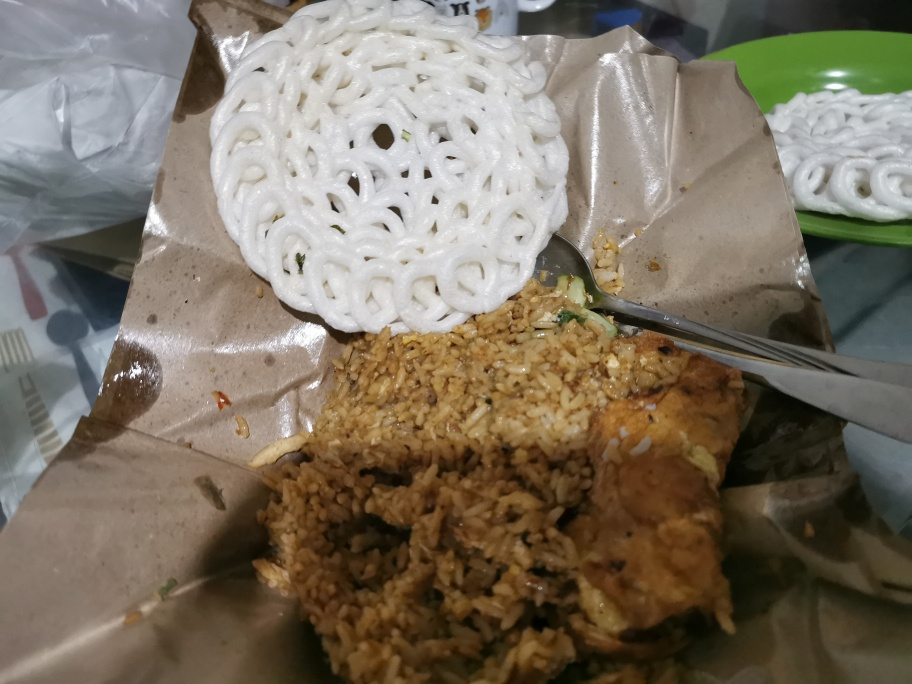kerupuk: (208, 1, 570, 326)
nasi goreng: (283, 329, 746, 684)
